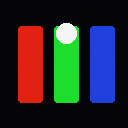2 circle: (56, 23, 76, 43)
